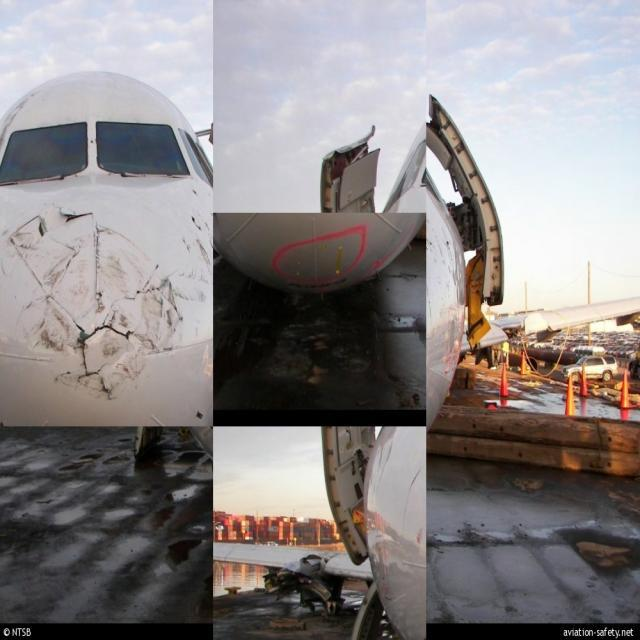crack: (2, 205, 190, 406)
